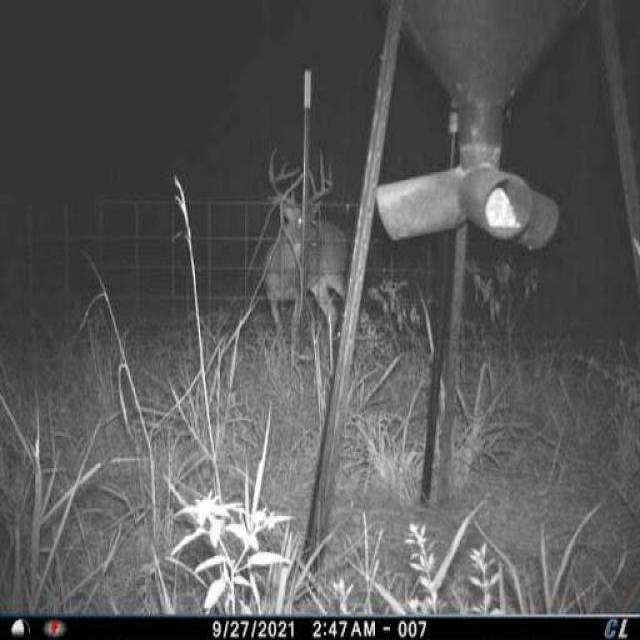deer: (245, 136, 361, 359)
